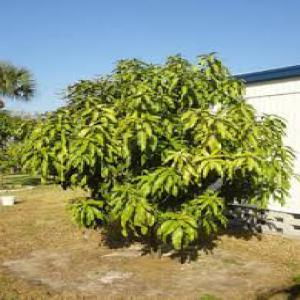Tree: (17, 51, 292, 256)
